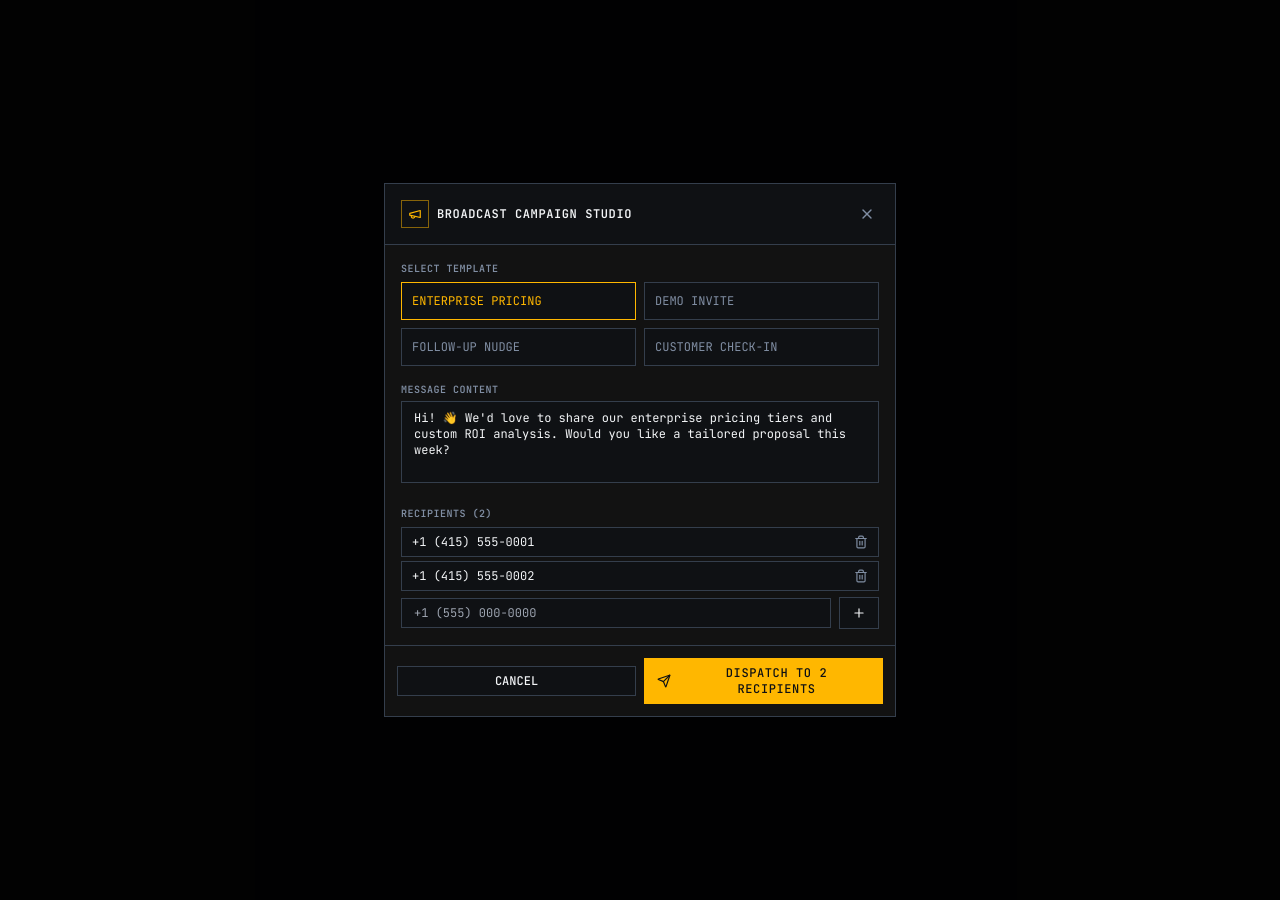
Scenario: WhatsApp Business Feature Suite › switches broadcast message when a different template button is clicked
Step 1. Click the button "Demo Invite" → [762, 301], box [644,282,879,320]
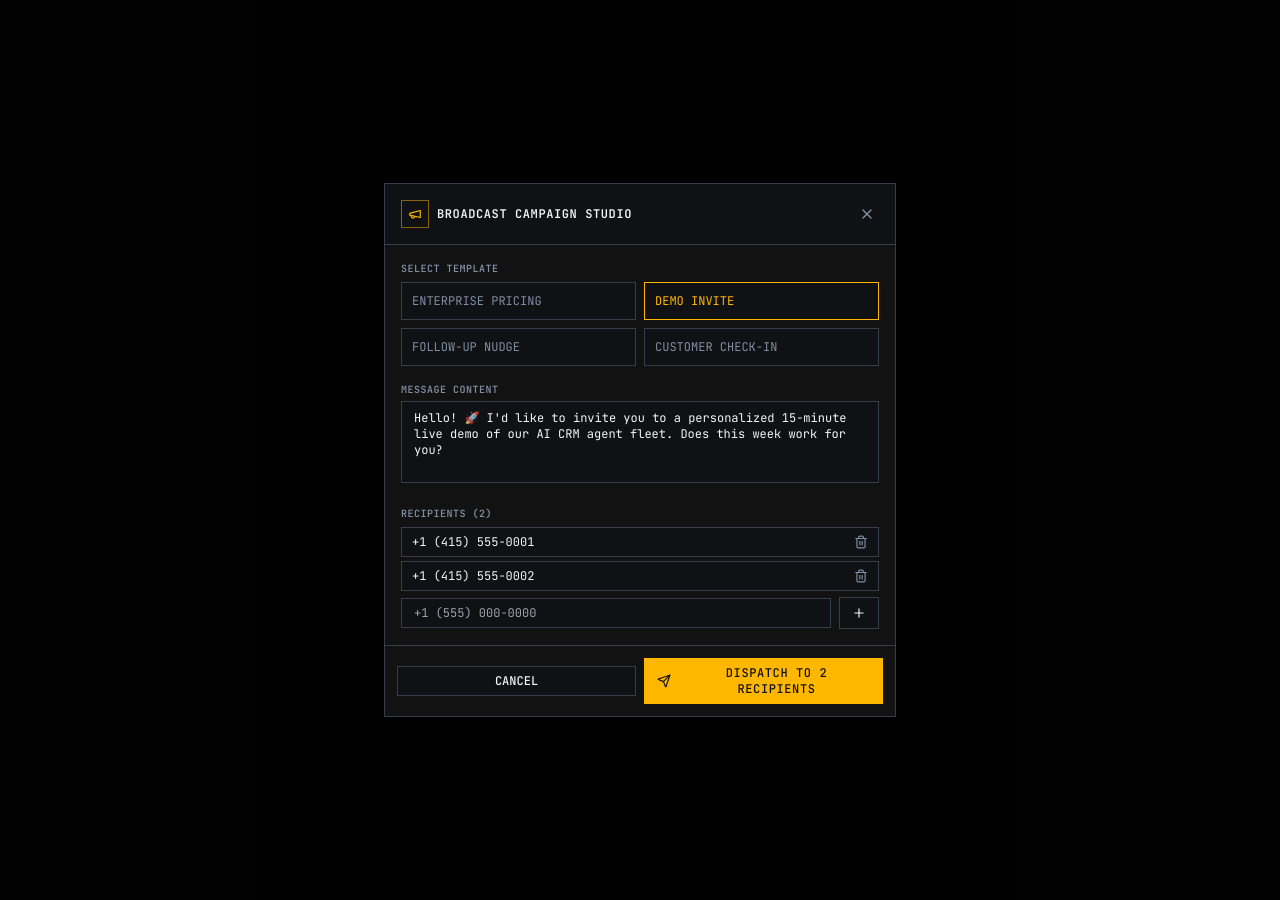
Now the text box showing "I'd like to invite you to a personalized 15-minute live demo" is shown, box [401,401,879,483]
